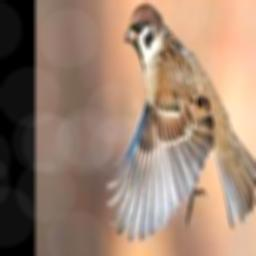Sparrow: (107, 3, 256, 241)
